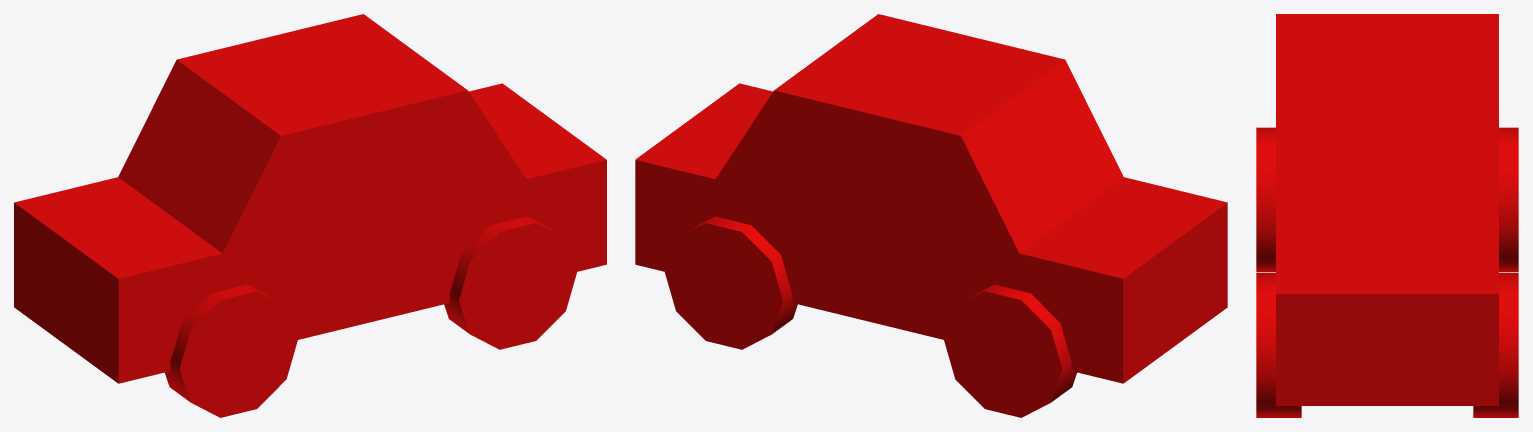
Rendered from WoodCarB.fbx.
The picture shows the model from 3 angles, left to right: view 1: azimuth 30°, elevation 25°; view 2: azimuth 150°, elevation 25°; view 3: azimuth 270°, elevation 25°; orthographic projection. The views are drawn at different scales.
Parts seen in each view (by area): view 1: WoodCarB; view 2: WoodCarB; view 3: WoodCarB.
Part boxes in pixels (x1=…): WoodCarB: x1=14, y1=14, x2=606, y2=417; WoodCarB: x1=635, y1=14, x2=1227, y2=417; WoodCarB: x1=1256, y1=14, x2=1518, y2=417.
Bounding box in the file's own units: 51.83 × 26.19 × 22.59.
